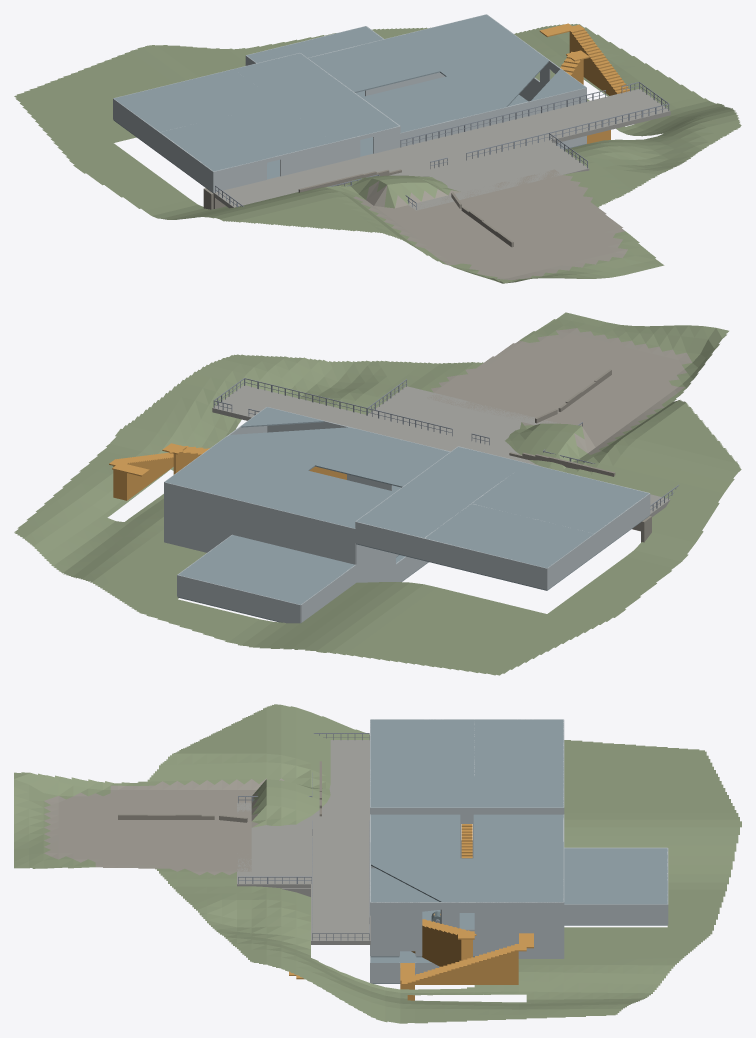
File: saved-earthworks.glb
3 renders of one model, top to bottom at view 1: azimuth 30°, elevation 25°; view 2: azimuth 150°, elevation 25°; view 3: azimuth 270°, elevation 25°, orthographic. The views are drawn at different scales.
Parts seen in each view (by area): view 1: Saved editor geographic earthworks WLD-09, WLD-09 complete structural crest deck region0, Ceiling cap west-stair, Ceiling cap control, Ceiling cap office, WLD-09 complete bridge arrival forecourt region0, Restored ceiling-cap turbine 0 region0, Ceiling cap turbine.006, Ceiling cap turbine.003, Ceiling cap turbine, Opened stair shell Wall turbine S.001, Ceiling cap plant (+12 smaller); view 2: Saved editor geographic earthworks WLD-09, Ceiling cap west-stair, Ceiling cap control, Ceiling cap plant, Flat route shell Wall turbine N.001, Ceiling cap office, WLD-09 complete structural crest deck region0, WLD-09 complete bridge arrival forecourt region0, Restored ceiling-cap turbine 0 region0, Ceiling cap turbine.006, Wall office N, Wall plant N (+12 smaller); view 3: Saved editor geographic earthworks WLD-09, WLD-09 complete structural crest deck region0, Opened stair shell Wall turbine E, Ceiling cap west-stair, Ceiling cap control, Ceiling cap plant, Ceiling cap office, Restored ceiling-cap turbine 0 region0, WLD-09 complete bridge arrival forecourt region0, Ceiling cap turbine.006, Ceiling cap turbine, Ceiling cap turbine.003 (+6 smaller).
Boxes of the visible parts, x1=… form: Saved editor geographic earthworks WLD-09: x1=14, y1=24, x2=741, y2=283; WLD-09 complete structural crest deck region0: x1=213, y1=89, x2=670, y2=208; Ceiling cap west-stair: x1=234, y1=53, x2=398, y2=142; Ceiling cap control: x1=160, y1=103, x2=332, y2=171; Ceiling cap office: x1=114, y1=69, x2=278, y2=131; WLD-09 complete bridge arrival forecourt region0: x1=407, y1=140, x2=589, y2=210; Restored ceiling-cap turbine 0 region0: x1=409, y1=54, x2=548, y2=119; Ceiling cap turbine.006: x1=393, y1=14, x2=531, y2=70; Ceiling cap turbine.003: x1=362, y1=86, x2=454, y2=132; Ceiling cap turbine: x1=308, y1=46, x2=400, y2=91; Opened stair shell Wall turbine S.001: x1=465, y1=87, x2=586, y2=149; Ceiling cap plant: x1=246, y1=26, x2=382, y2=62; Saved editor geographic earthworks WLD-09: x1=14, y1=312, x2=741, y2=675; Ceiling cap west-stair: x1=356, y1=447, x2=526, y2=537; Ceiling cap control: x1=472, y1=463, x2=648, y2=533; Ceiling cap plant: x1=178, y1=535, x2=354, y2=604; Flat route shell Wall turbine N.001: x1=164, y1=482, x2=288, y2=550; Ceiling cap office: x1=425, y1=504, x2=593, y2=567; WLD-09 complete structural crest deck region0: x1=212, y1=385, x2=670, y2=516; WLD-09 complete bridge arrival forecourt region0: x1=368, y1=386, x2=558, y2=450; Restored ceiling-cap turbine 0 region0: x1=221, y1=427, x2=400, y2=475; Ceiling cap turbine.006: x1=165, y1=448, x2=306, y2=505; Wall office N: x1=424, y1=538, x2=547, y2=589; Wall plant N: x1=177, y1=575, x2=300, y2=623; Saved editor geographic earthworks WLD-09: x1=14, y1=704, x2=741, y2=1023; WLD-09 complete structural crest deck region0: x1=311, y1=740, x2=370, y2=944; Opened stair shell Wall turbine E: x1=370, y1=902, x2=563, y2=956; Ceiling cap west-stair: x1=370, y1=776, x2=563, y2=807; Ceiling cap control: x1=370, y1=719, x2=474, y2=776; Ceiling cap plant: x1=564, y1=848, x2=667, y2=904; Ceiling cap office: x1=474, y1=719, x2=563, y2=776; Restored ceiling-cap turbine 0 region0: x1=370, y1=840, x2=460, y2=902; WLD-09 complete bridge arrival forecourt region0: x1=237, y1=802, x2=310, y2=888; Ceiling cap turbine.006: x1=475, y1=858, x2=563, y2=902; Ceiling cap turbine: x1=475, y1=814, x2=563, y2=840; Ceiling cap turbine.003: x1=370, y1=814, x2=458, y2=840.
Bounding box in the file's own units: 85 × 13.16 × 98.
Materials: 35 (18 with a texture image).
